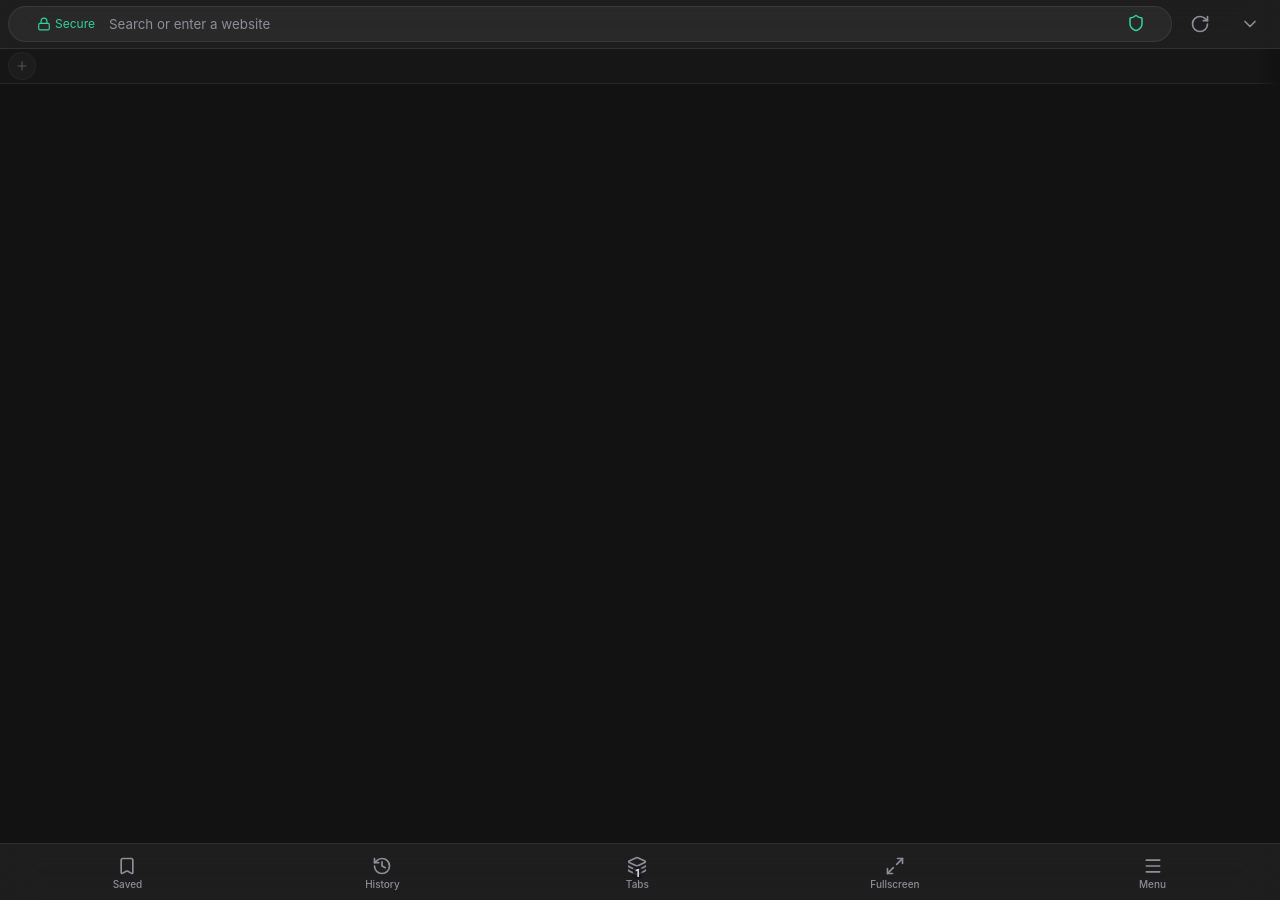
it: MobileApp › opens the menu sheet from the bottom bar
Click the button "Menu" at (1152, 872), box [1124,844,1180,899]
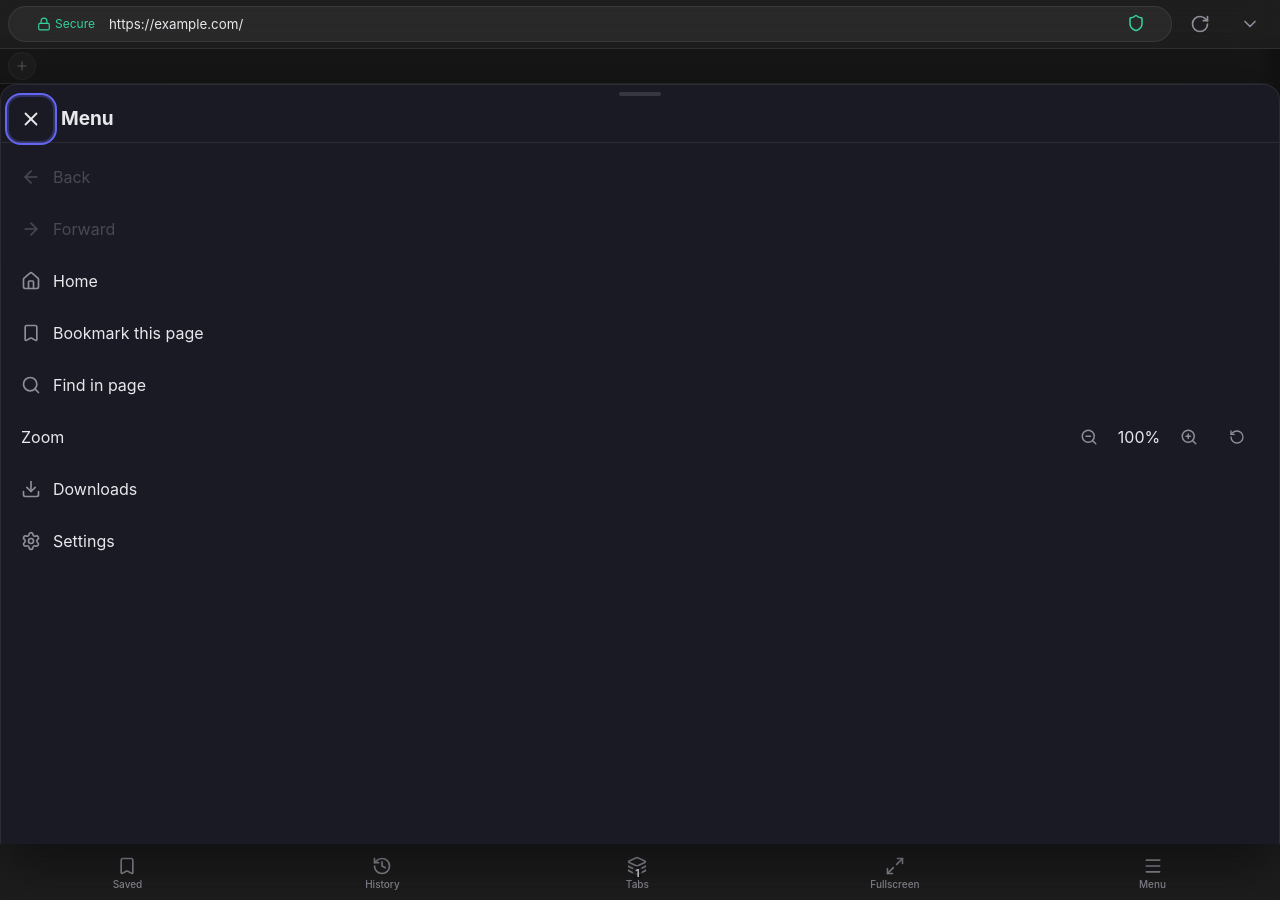
Result: the dialog "Menu" is shown
